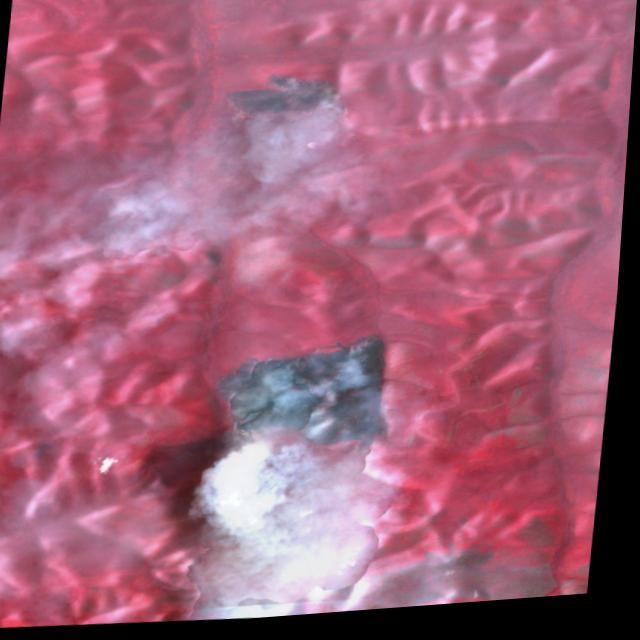fire: (209, 331, 406, 463), (216, 67, 355, 135)
